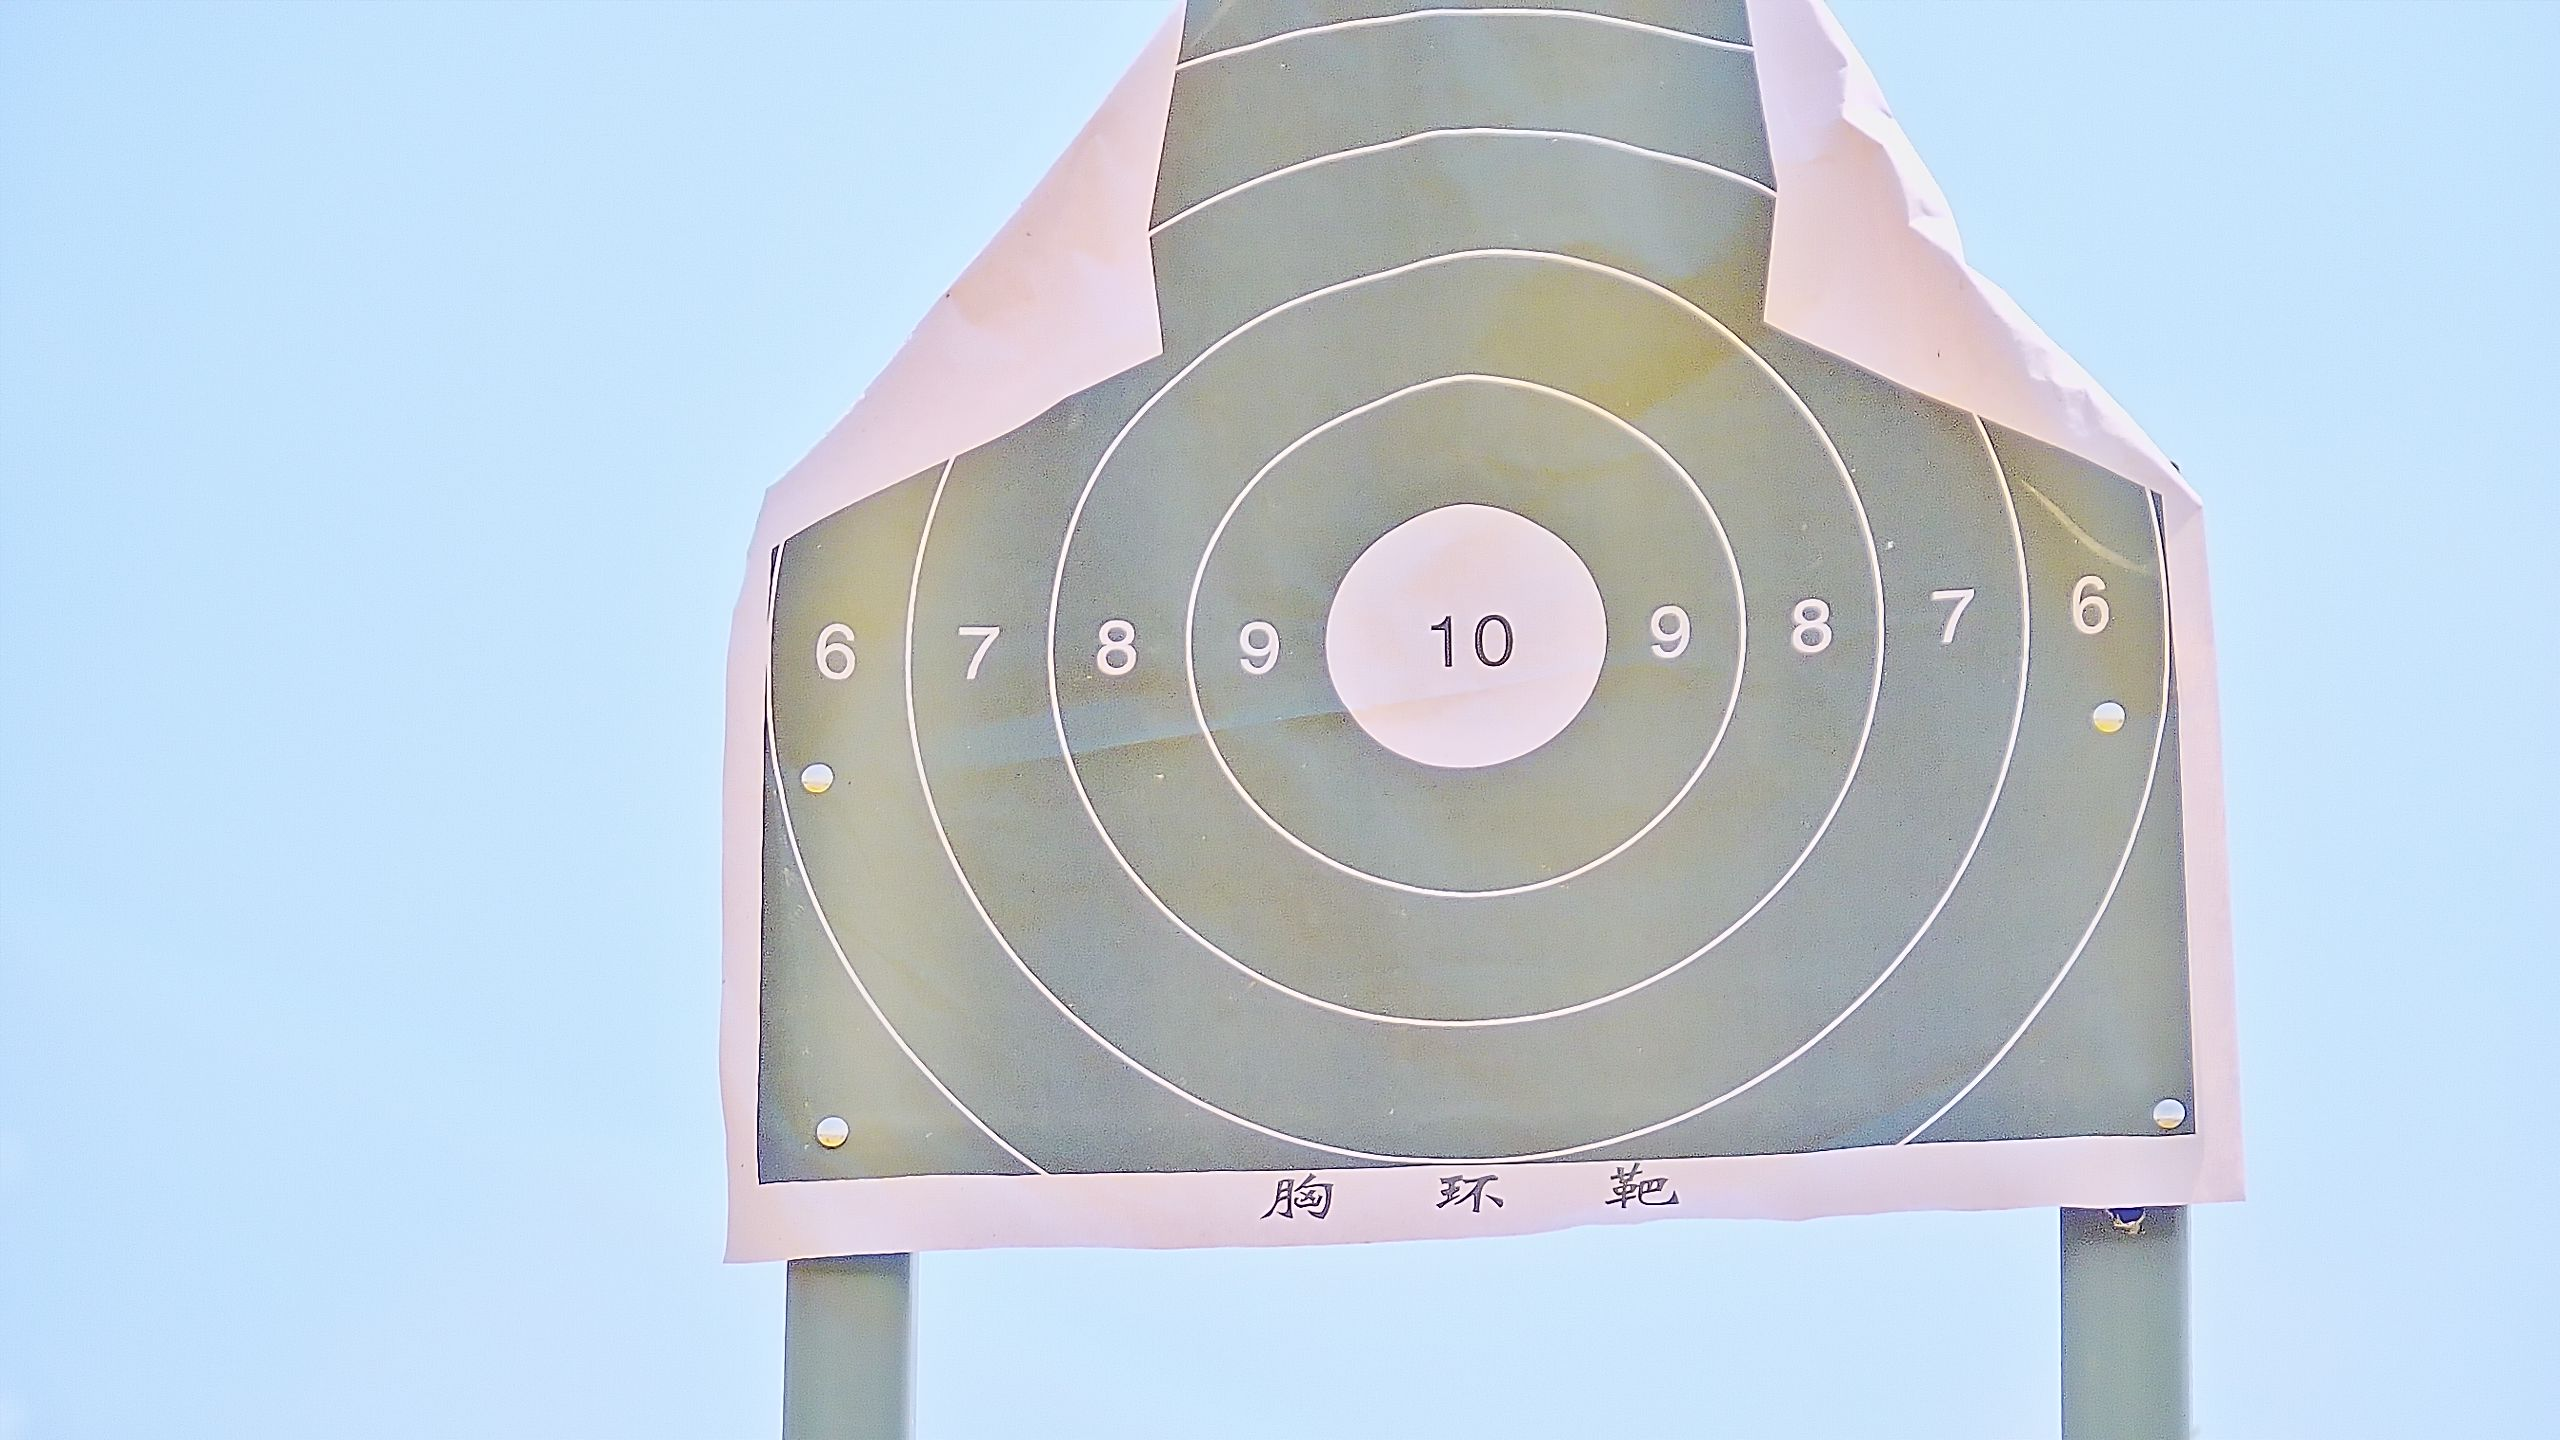kernel: (1461, 638, 1465, 642)
target: (742, 5, 2198, 1176)
ten: (1326, 503, 1612, 772)
